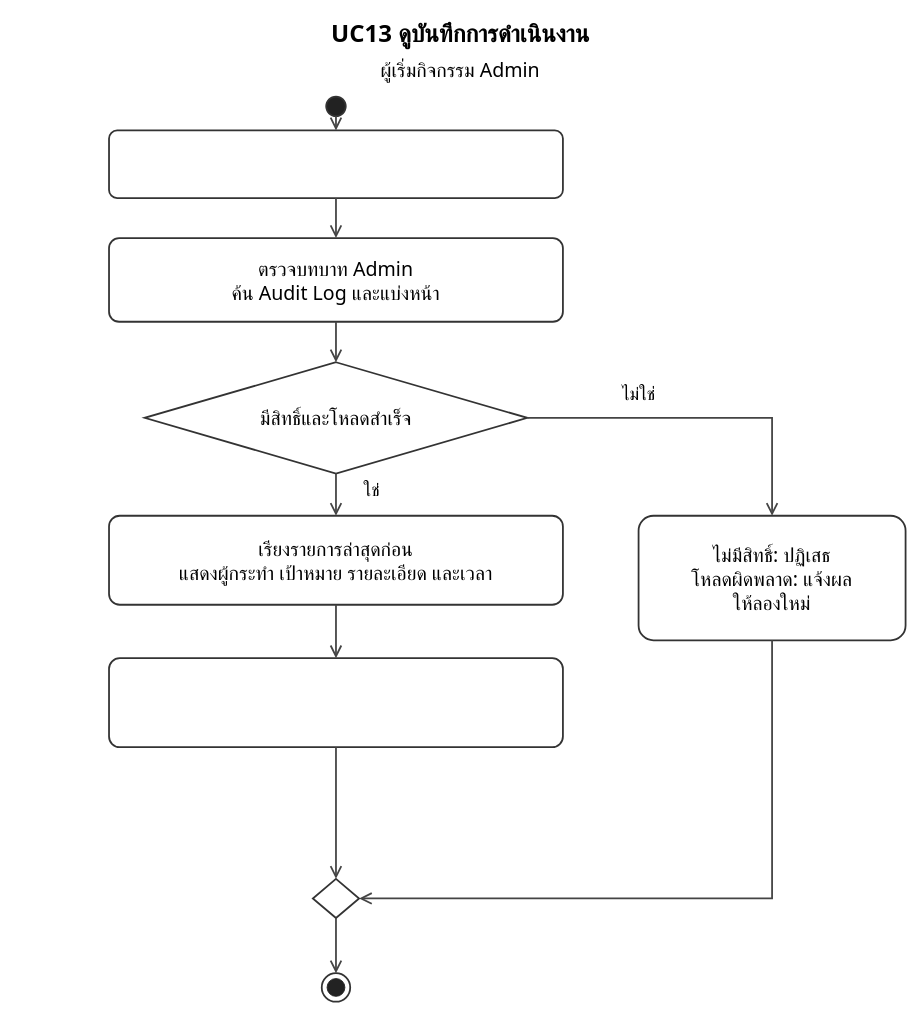
Some shapes in this 921 by 1017 pixel diagram are drawn without their labels. Here are the shapes that lost their labels. From the top down, the centre of each, then its label:
the point at 335,163: เลือกประเภทการกระทำหรือกรอกคำค้น
the point at 335,702: แสดงรายการ หรือสถานะไม่มีข้อมูล โดยไม่แก้ไขหรือลบบันทึก
